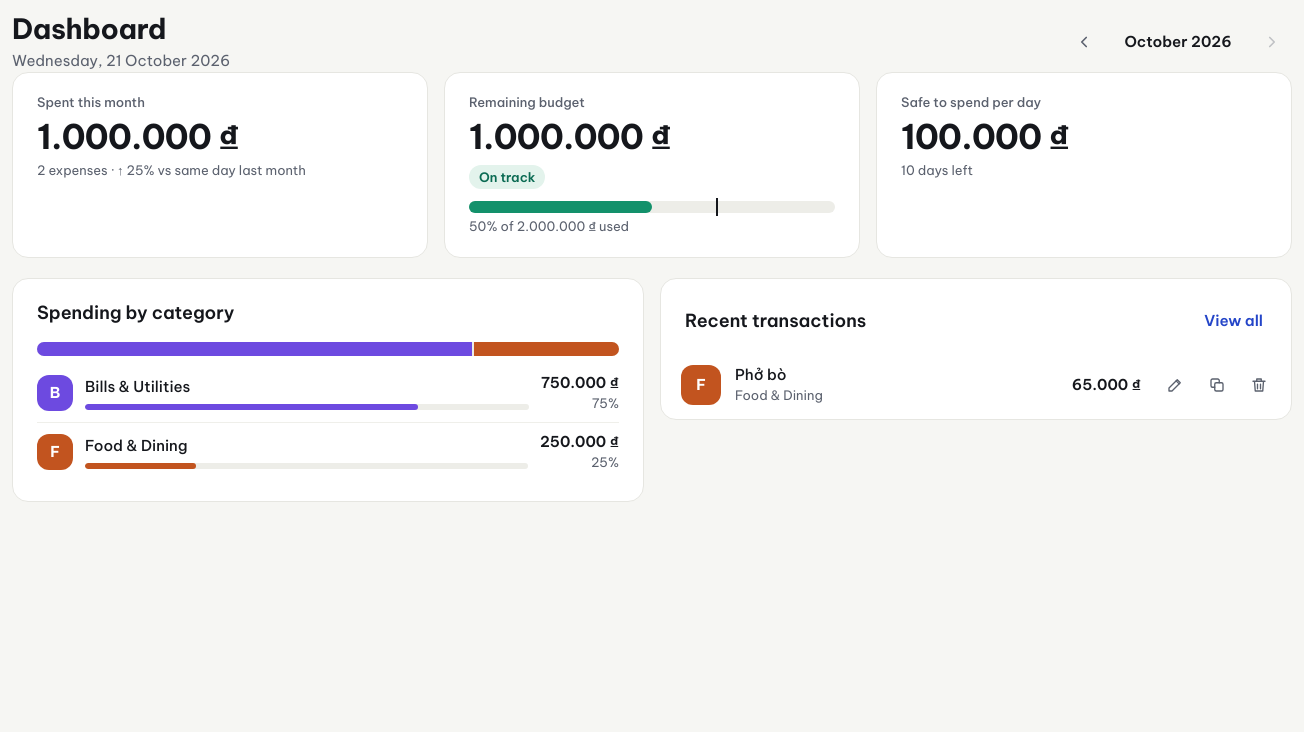
Test case: DashboardPage › budget › hides Safe to spend for a month that is not the current one
The image size is (1304, 732).
Expected: the heading "Safe to spend per day" is shown, [901,94,1041,110]
Click the button named "Previous month": x=1084, y=42 [1064,22,1104,62]
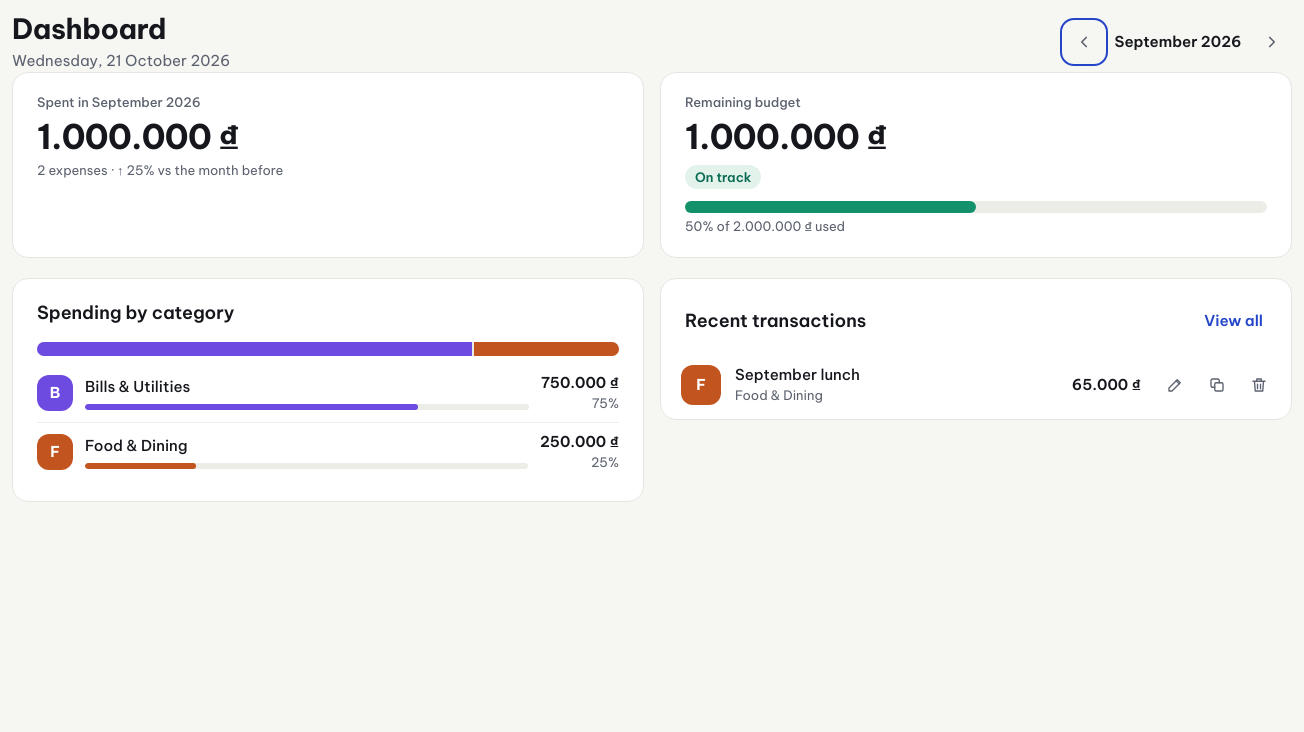
Expected: the heading "Remaining budget" is shown, [685,94,801,110]
Now the heading "Spent in September 2026" is shown, box [37,94,201,110]
Now the heading "Safe to spend per day" is gone
